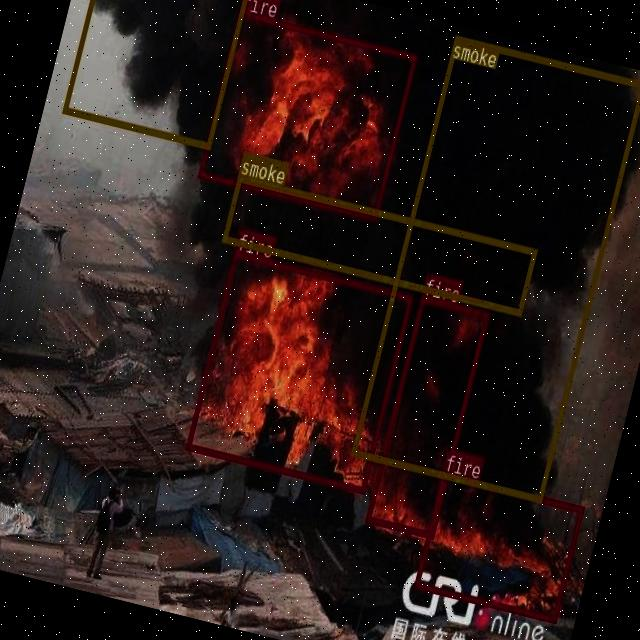fire: (185, 250, 412, 493), (197, 8, 417, 220), (364, 294, 489, 536), (412, 470, 584, 622)
smoke: (349, 33, 640, 501), (220, 172, 537, 316), (60, 0, 252, 149)
